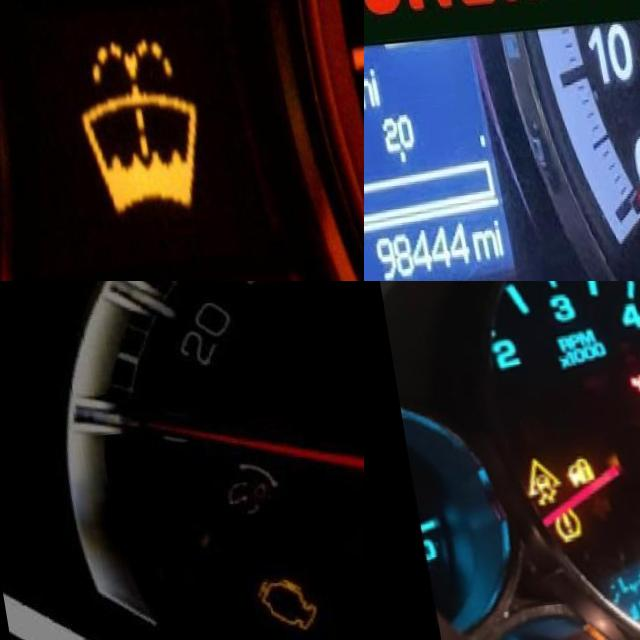Washer Fluid: (58, 45, 199, 223)
security: (553, 456, 585, 492)
